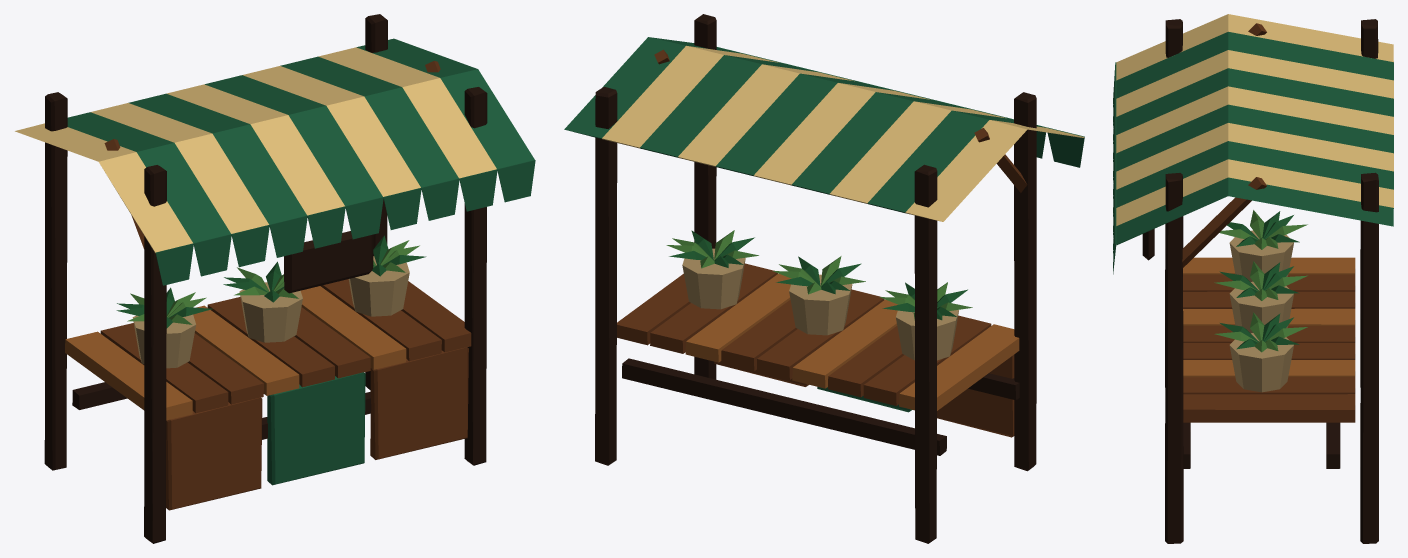
Rendered from Banca_de_ervas_LOD1.fbx.
3 renders of one model, left to right at view 1: azimuth 30°, elevation 25°; view 2: azimuth 150°, elevation 25°; view 3: azimuth 270°, elevation 25°, orthographic.
Parts seen in each view (by area): view 1: Banca_de_ervas_LOD1; view 2: Banca_de_ervas_LOD1; view 3: Banca_de_ervas_LOD1.
Part boxes in pixels (x1,y1,x2,y2): Banca_de_ervas_LOD1: (15,14,535,543); Banca_de_ervas_LOD1: (564,14,1084,543); Banca_de_ervas_LOD1: (1113,14,1393,543).
Bounding box in the file's own units: 320 × 300 × 208.
Materials: 1 (1 with a texture image).
